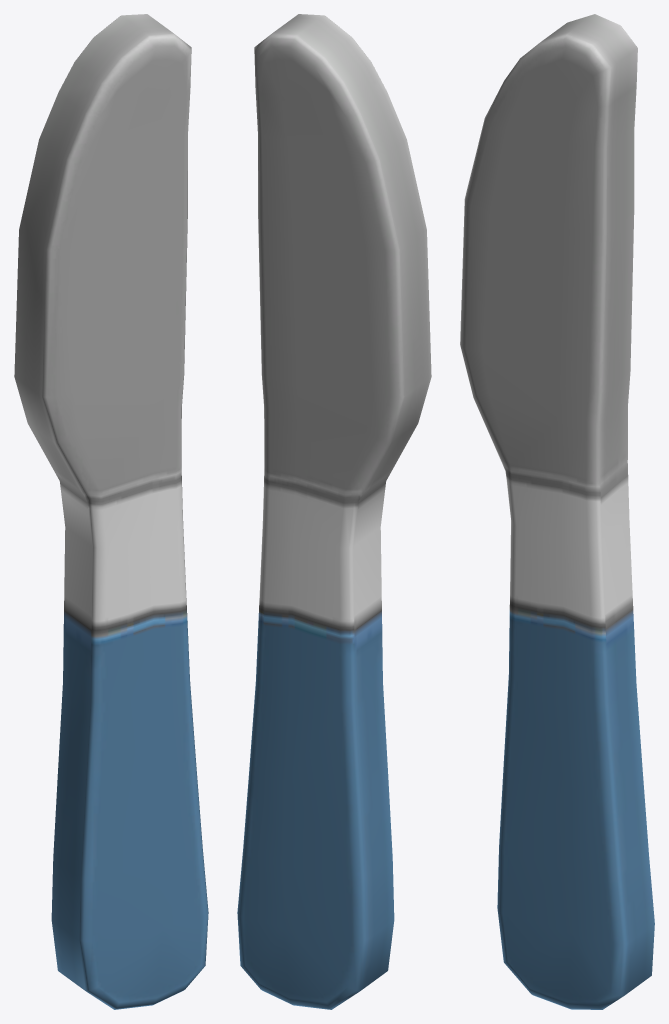
Rendered from 0-knife_blue.fbx.
The picture shows the model from 3 angles, left to right: view 1: azimuth 30°, elevation 25°; view 2: azimuth 150°, elevation 25°; view 3: azimuth 330°, elevation 25°; orthographic projection.
Visible parts, largest first — view 1: 0-knife_blue; view 2: 0-knife_blue; view 3: 0-knife_blue.
Part boxes in pixels (box(x1,y1,x2,y2)): 0-knife_blue: box(14, 14, 208, 1009); 0-knife_blue: box(237, 14, 431, 1009); 0-knife_blue: box(460, 14, 654, 1009).
Bounding box in the file's own units: 20.58 × 115 × 7.73.
